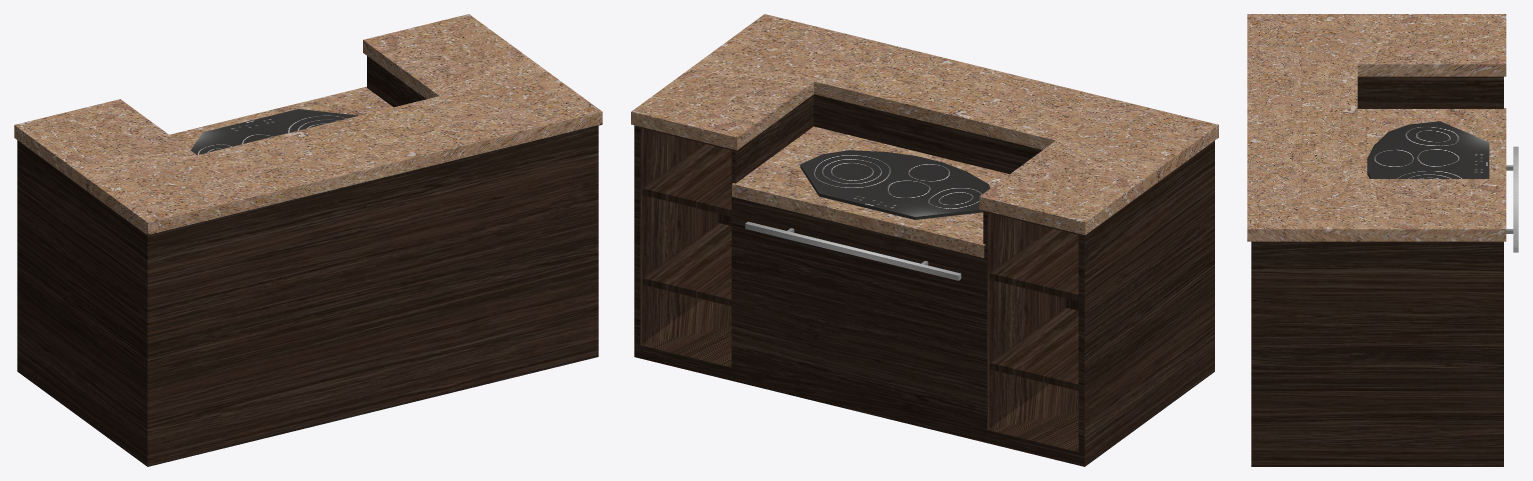
Rendered from fogao.obj.
The picture shows the model from 3 angles, left to right: view 1: azimuth 30°, elevation 25°; view 2: azimuth 150°, elevation 25°; view 3: azimuth 270°, elevation 25°; orthographic projection. The views are drawn at different scales.
Visible parts, largest first — view 1: fogao_fogao_Cube_Cube.001; view 2: fogao_fogao_Cube_Cube.001; view 3: fogao_fogao_Cube_Cube.001.
Part boxes in pixels (x1,y1,x2,y2): fogao_fogao_Cube_Cube.001: (14, 14, 602, 466); fogao_fogao_Cube_Cube.001: (631, 14, 1218, 466); fogao_fogao_Cube_Cube.001: (1247, 14, 1518, 466).
Bounding box in the file's own units: 2.63 × 1.36 × 1.4.
Materials: 1 (1 with a texture image).
